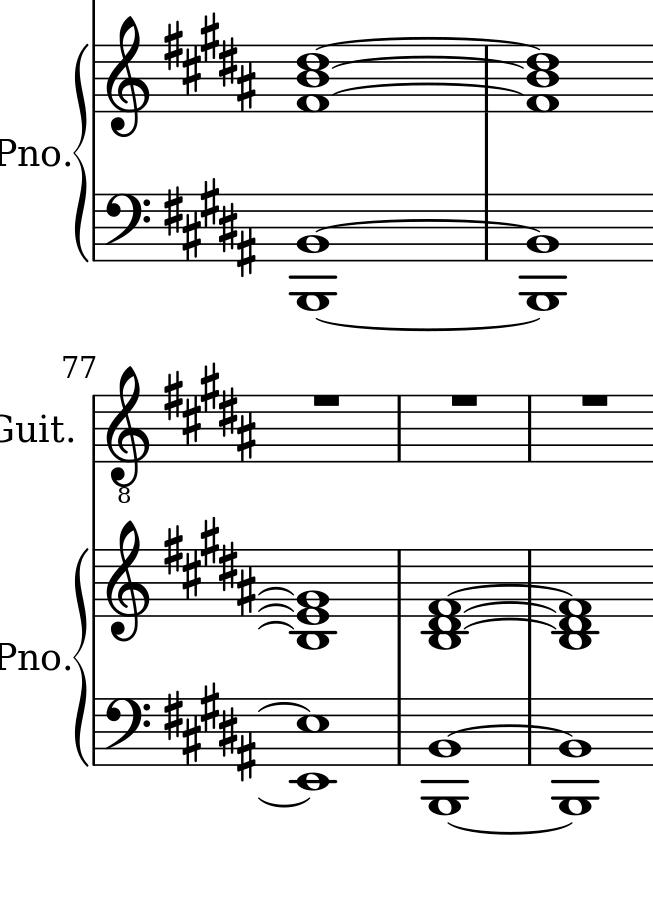1_-2_5: (288, 696, 338, 794)
1_-5_2: (551, 697, 603, 815), (420, 697, 471, 815), (519, 192, 569, 312), (289, 193, 339, 312)
1_th: (556, 549, 594, 652), (294, 549, 331, 651), (427, 548, 462, 650), (524, 43, 559, 114), (297, 44, 330, 113)
7: (59, 353, 79, 378), (79, 354, 97, 379)
B_S: (162, 515, 256, 617), (162, 680, 256, 781), (163, 178, 256, 278), (164, 361, 257, 461), (165, 10, 256, 111)
Brace: (72, 44, 89, 264), (74, 548, 89, 767)
Fclef: (102, 189, 150, 266), (104, 696, 150, 769)
Gclef: (107, 518, 153, 645), (105, 18, 150, 139)
Guit: (1, 410, 64, 450)
Lower_Gclef: (103, 362, 150, 504)
Pno: (1, 136, 60, 174), (1, 639, 55, 676)
Rests1: (577, 389, 611, 410), (449, 389, 480, 409), (311, 389, 342, 408)
Single_barline: (390, 697, 413, 764), (389, 395, 411, 462), (520, 697, 541, 766), (86, 44, 106, 112), (521, 549, 541, 617), (86, 698, 106, 765), (87, 194, 105, 261), (86, 394, 103, 462), (521, 396, 539, 460), (479, 194, 496, 261), (478, 45, 495, 111), (87, 549, 103, 616), (392, 550, 407, 616)
Slur: (318, 37, 545, 52), (315, 219, 544, 233), (333, 82, 525, 96), (332, 56, 524, 69), (320, 319, 539, 330), (446, 724, 576, 738), (448, 821, 572, 835), (446, 583, 577, 595), (464, 618, 560, 629), (463, 602, 556, 613), (256, 795, 310, 808), (257, 701, 312, 713), (258, 603, 294, 613), (257, 621, 294, 630), (258, 586, 293, 595)
